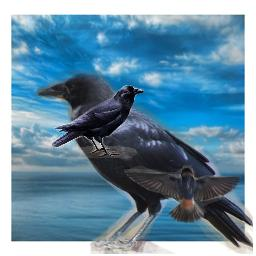Crow: (34, 69, 253, 254), (51, 85, 144, 158)
Swallow: (121, 165, 243, 224)
